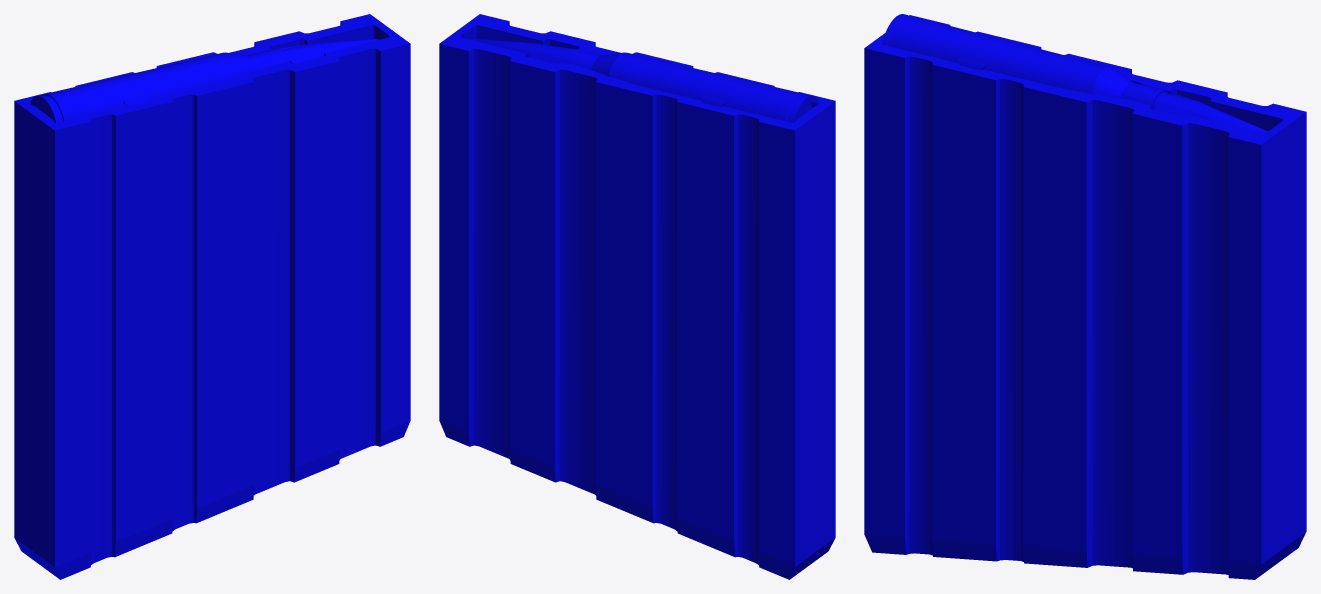
File: mag.fbx
The picture shows the model from 3 angles, left to right: view 1: azimuth 30°, elevation 25°; view 2: azimuth 150°, elevation 25°; view 3: azimuth 330°, elevation 25°; orthographic projection. The views are drawn at different scales.
Parts seen in each view (by area): view 1: magaz; view 2: magaz; view 3: magaz.
Part boxes in pixels (bbox=[...]): magaz: bbox=[14, 14, 410, 579]; magaz: bbox=[439, 14, 835, 579]; magaz: bbox=[864, 14, 1306, 579].
Bounding box in the file's own units: 11.49 × 14.41 × 2.27.
